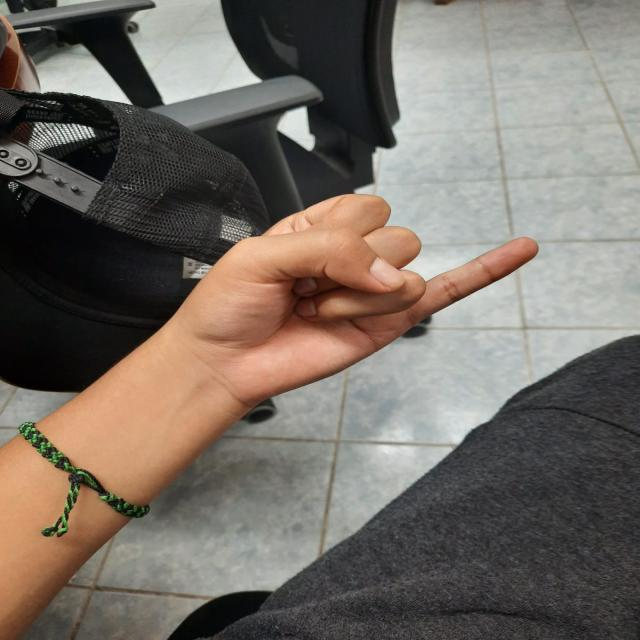Z: (181, 178, 569, 434)
